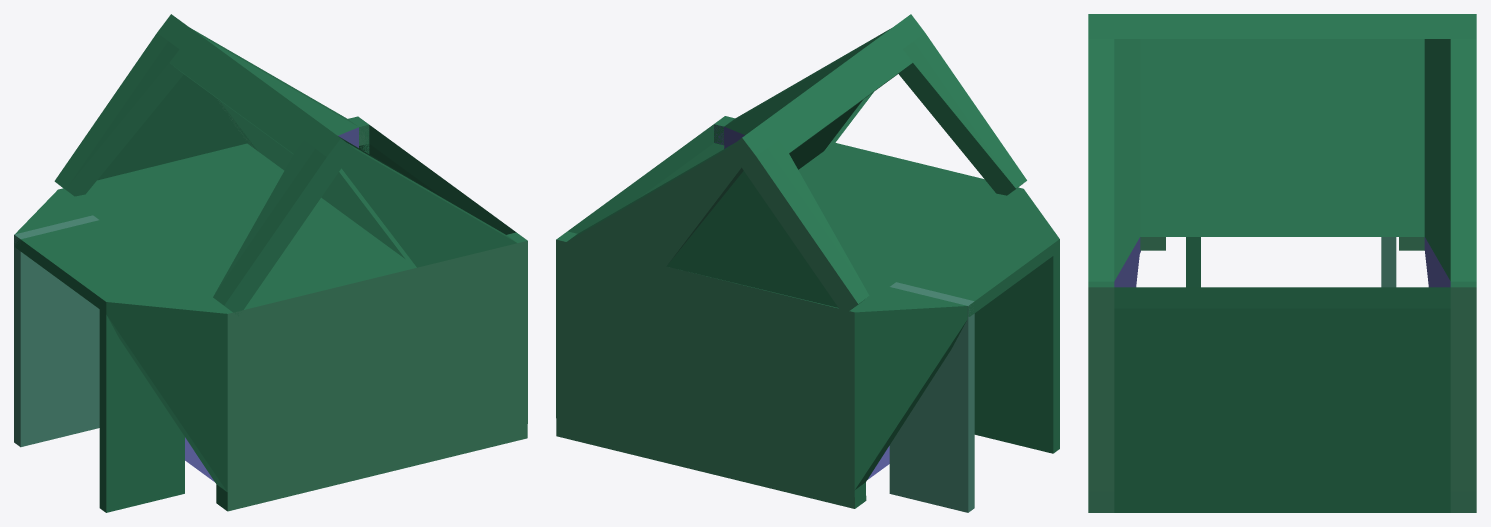
File: houseWITHrope.fbx
3 renders of one model, left to right at view 1: azimuth 30°, elevation 25°; view 2: azimuth 150°, elevation 25°; view 3: azimuth 270°, elevation 25°, orthographic. The views are drawn at different scales.
Visible parts, largest first — view 1: Cube.001, Cube.002, Cube; view 2: Cube.001, Cube, Cube.002; view 3: Cube.001, Cube.002, Cube.
Part boxes in pixels (x1=…): Cube.001: x1=14, y1=14, x2=527, y2=511; Cube.002: x1=14, y1=215, x2=99, y2=447; Cube: x1=99, y1=298, x2=184, y2=512; Cube.001: x1=556, y1=14, x2=1059, y2=508; Cube: x1=974, y1=240, x2=1059, y2=453; Cube.002: x1=889, y1=282, x2=974, y2=512; Cube.001: x1=1088, y1=14, x2=1476, y2=512; Cube.002: x1=1381, y1=237, x2=1396, y2=287; Cube: x1=1186, y1=237, x2=1200, y2=287.
Size of the model in its own units: 960 by 869 by 745.
